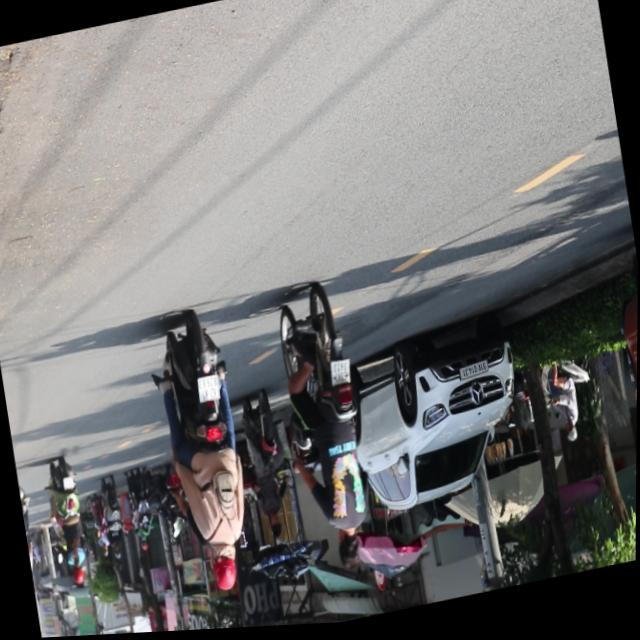helmet: (209, 546, 244, 597)
licenseplate: (144, 308, 268, 606), (268, 282, 389, 585), (236, 391, 301, 549)
motorcyclist: (336, 532, 364, 576), (269, 516, 286, 544)
nohelmet: (197, 376, 222, 406), (331, 362, 354, 389)
